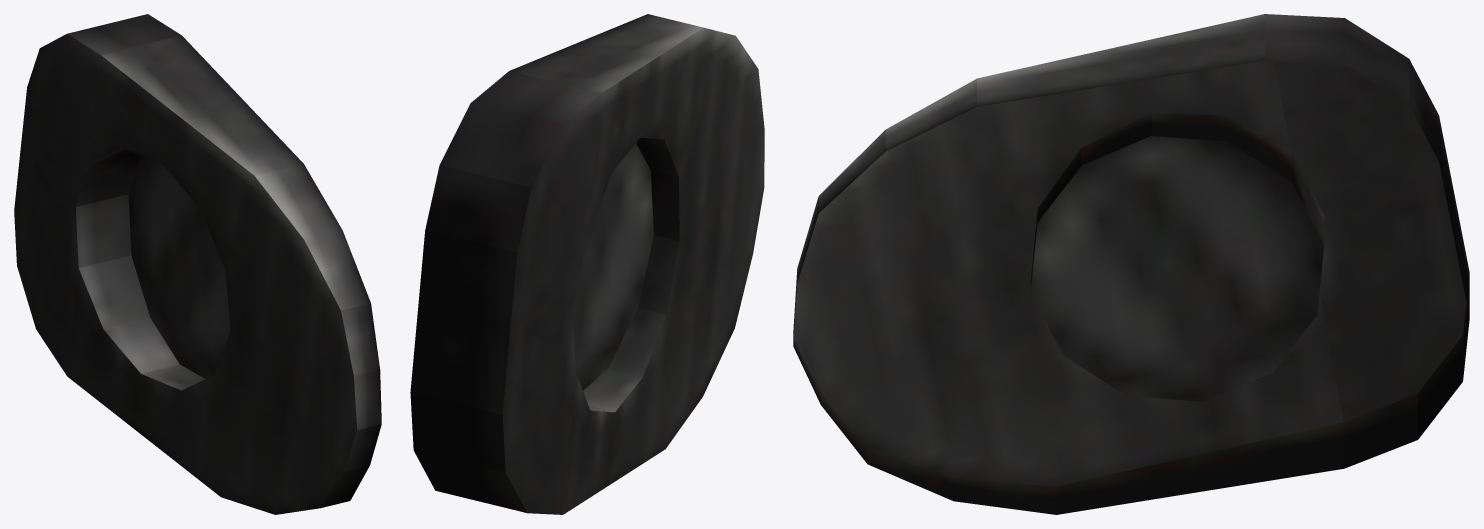
The picture shows the model from 3 angles, left to right: view 1: azimuth 30°, elevation 25°; view 2: azimuth 150°, elevation 25°; view 3: azimuth 270°, elevation 25°; orthographic projection. The views are drawn at different scales.
Parts seen in each view (by area): view 1: TW_633ec7c2a6918cb895019c6c_PZ_Import; view 2: TW_633ec7c2a6918cb895019c6c_PZ_Import; view 3: TW_633ec7c2a6918cb895019c6c_PZ_Import.
Boxes of the visible parts, x1,y1,x2,y2 form: TW_633ec7c2a6918cb895019c6c_PZ_Import: [14, 14, 381, 514]; TW_633ec7c2a6918cb895019c6c_PZ_Import: [410, 14, 764, 514]; TW_633ec7c2a6918cb895019c6c_PZ_Import: [793, 14, 1469, 514].
Bounding box in the file's own units: 0.00141 × 0.00864 × 0.0064.
Materials: 1 (1 with a texture image).
